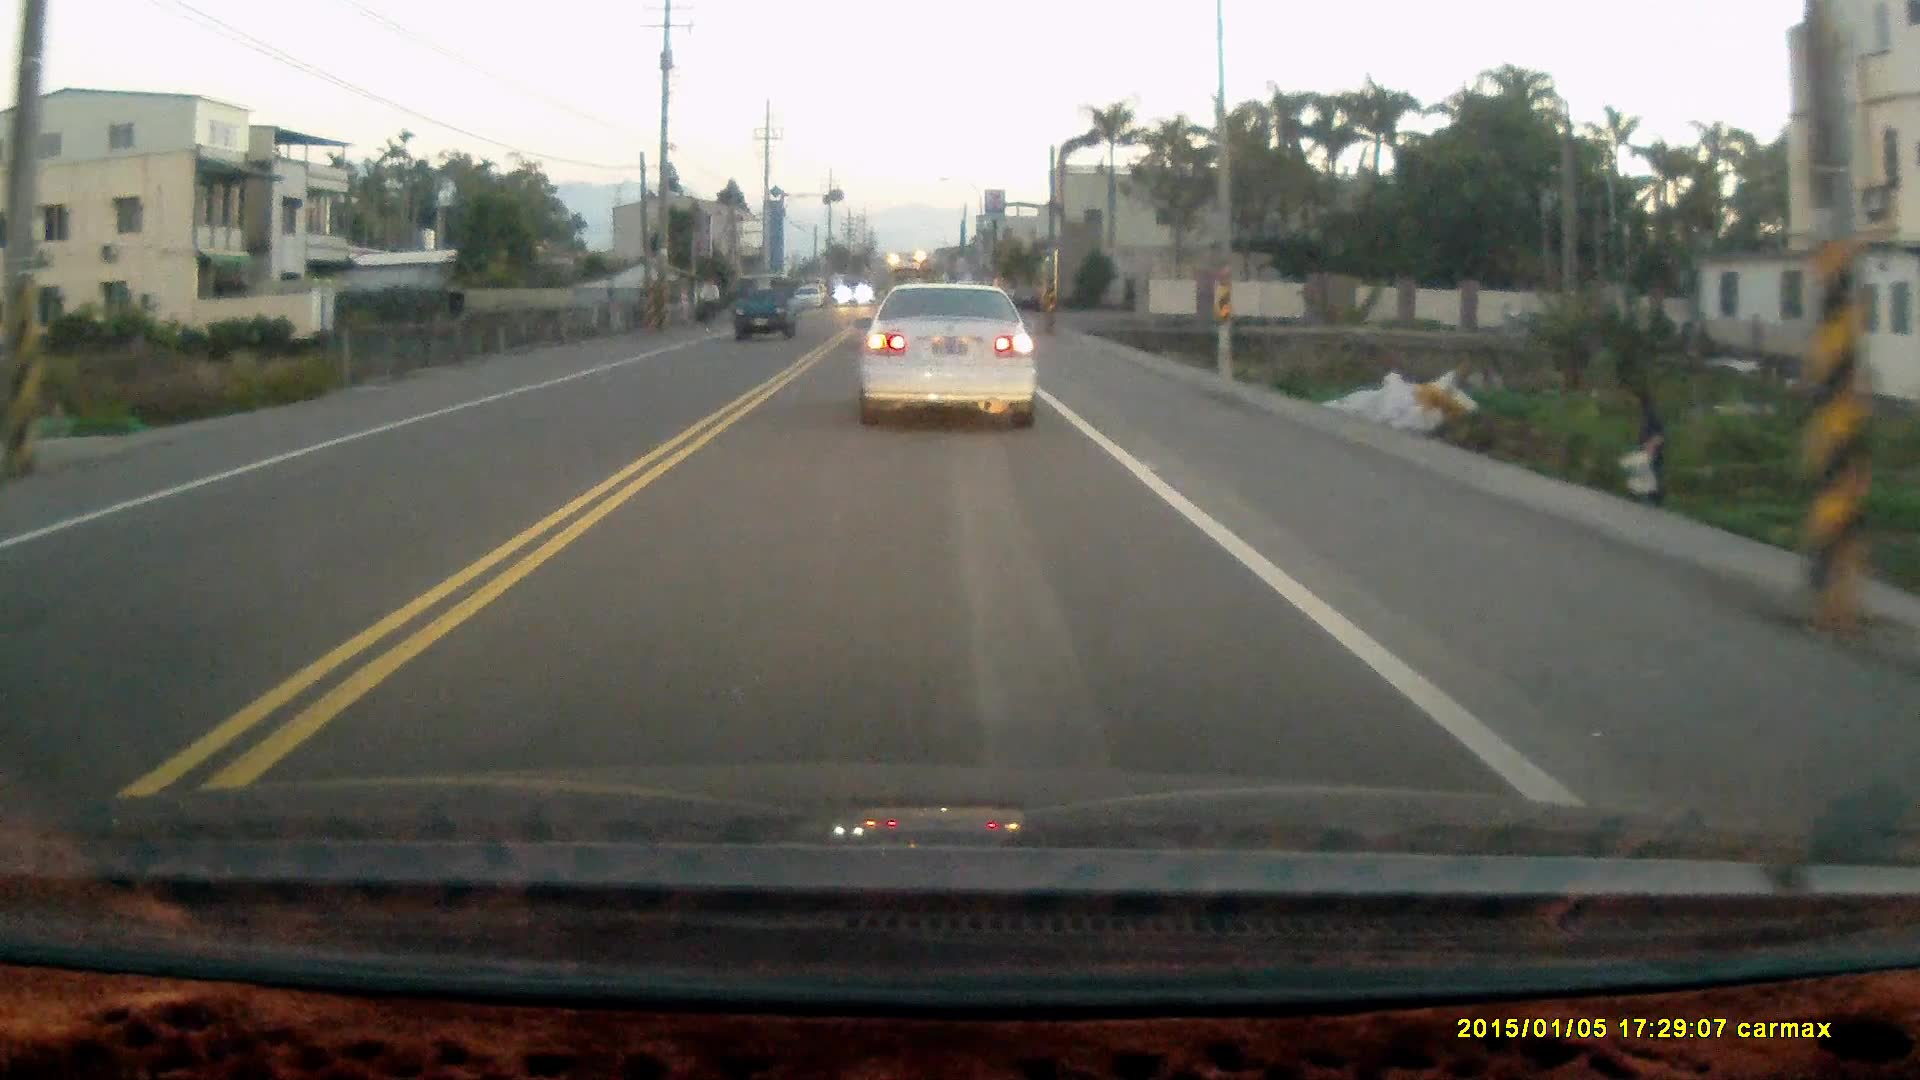pedestrian: (1624, 384, 1666, 515)
rider: (694, 273, 717, 331)
vehicle: (859, 290, 1045, 430), (730, 275, 801, 345)
